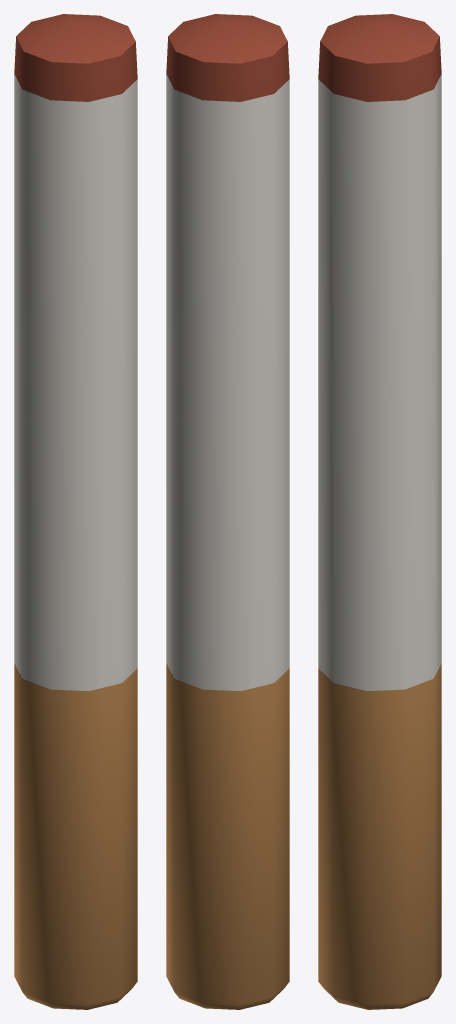
Rendered from char_hand_cigarette.glb.
3 renders of one model, left to right at view 1: azimuth 30°, elevation 25°; view 2: azimuth 210°, elevation 25°; view 3: azimuth 330°, elevation 25°, orthographic.
Parts seen in each view (by area): view 1: Visual; view 2: Visual; view 3: Visual.
Part boxes in pixels (x1,y1,x2,y2): Visual: (14, 14, 137, 1009); Visual: (166, 14, 289, 1009); Visual: (318, 14, 441, 1009).
Size of the model in its own units: 0.0084 by 0.072 by 0.00799.
